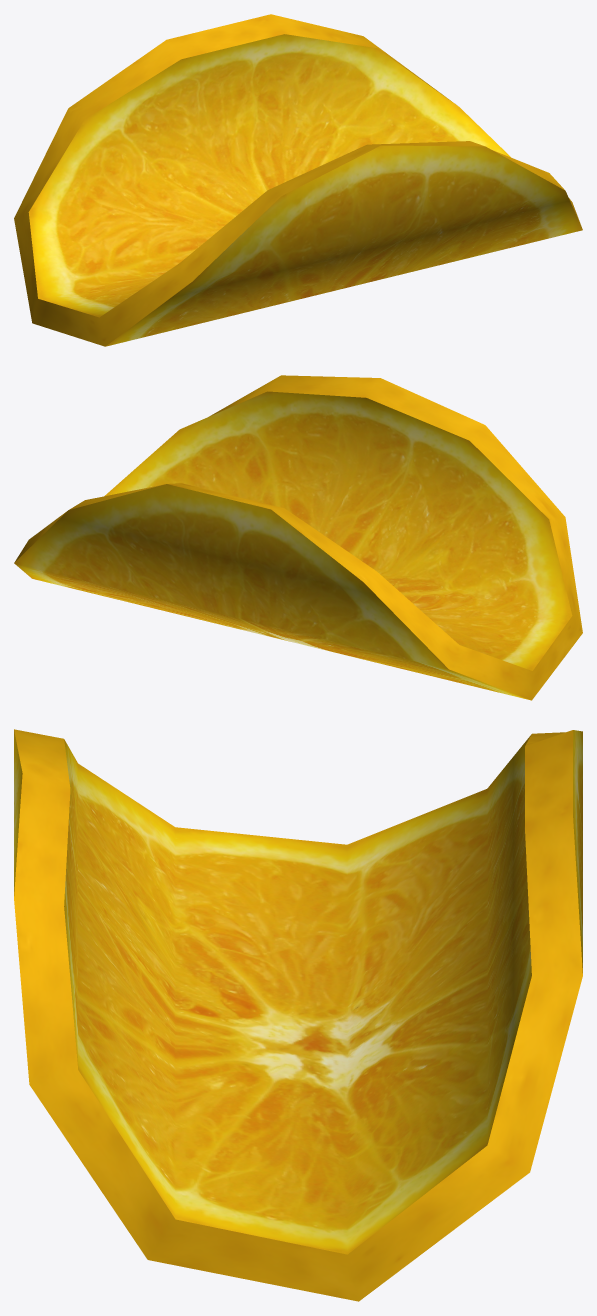
Rendered from LemonSliceBentC.fbx.
The picture shows the model from 3 angles, top to bottom: view 1: azimuth 30°, elevation 25°; view 2: azimuth 150°, elevation 25°; view 3: azimuth 270°, elevation 25°; orthographic projection. The views are drawn at different scales.
Visible parts, largest first — view 1: Default_Layer; view 2: Default_Layer; view 3: Default_Layer.
Part boxes in pixels (<box>): Default_Layer: <box>14,14,582,346</box>; Default_Layer: <box>14,375,582,700</box>; Default_Layer: <box>14,729,582,1301</box>.
Bounding box in the file's own units: 16.52 × 5.98 × 9.59.
